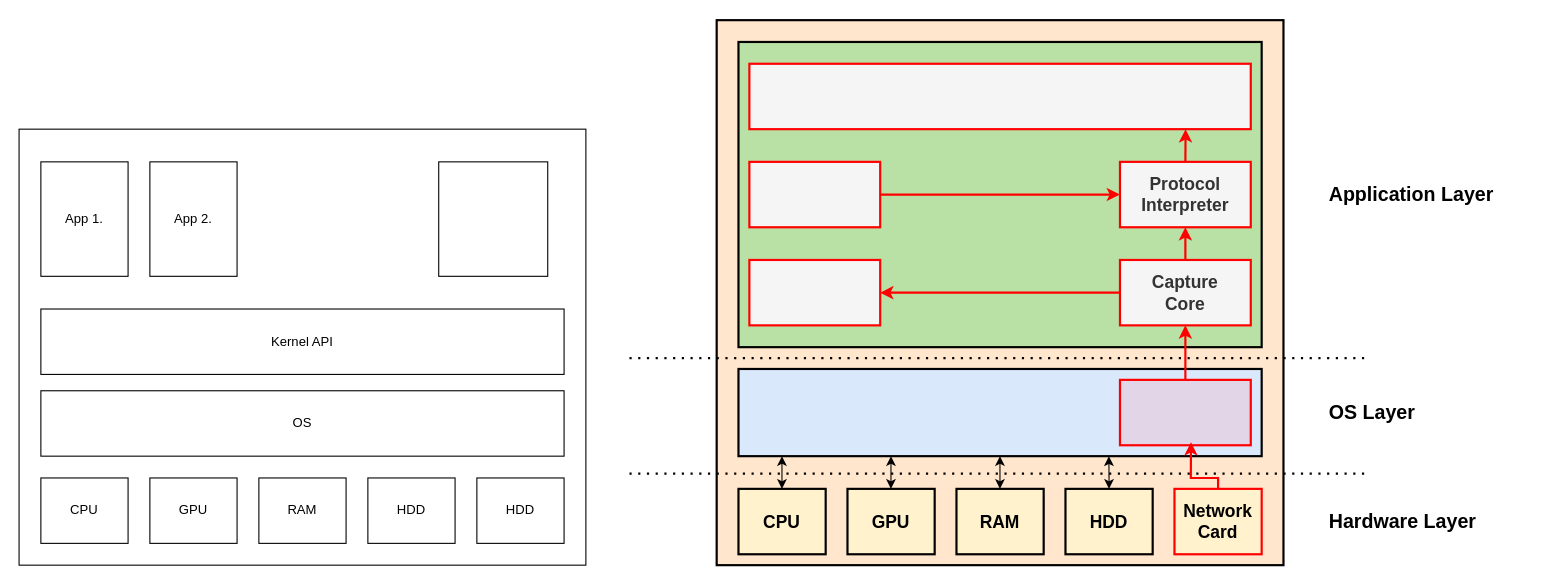
This 1564x584 diagram has some shape labels left out. Here are the shapes that lost their labels. From the top down, the box of each, then its label:
(748, 62, 1251, 130): User Interface
(748, 160, 881, 228): Disselectors
(438, 161, 548, 276): Task Manager
(748, 258, 881, 326): Wire Tap
(737, 367, 1262, 457): Windows
(1118, 378, 1251, 446): WinPcap Library
